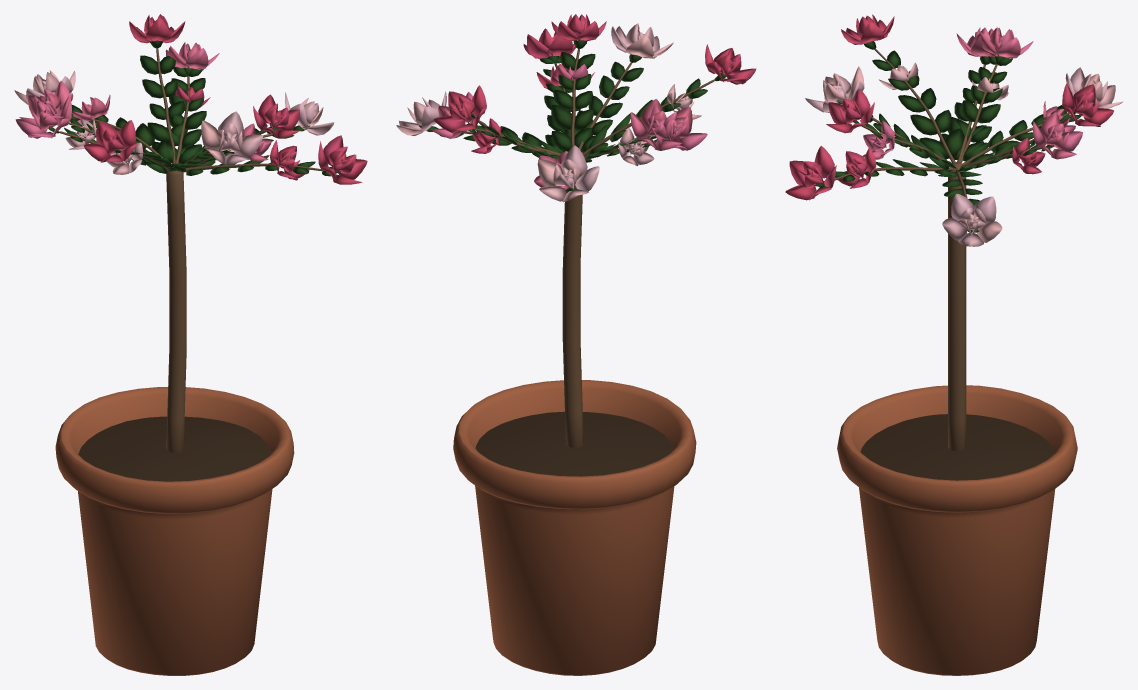
Rendered from pot_rose.glb.
3 views of the same model, side by side, from view 1: azimuth 30°, elevation 25°; view 2: azimuth 150°, elevation 25°; view 3: azimuth 270°, elevation 25° (orthographic).
Parts seen in each view (by area): view 1: Sammel Putz, Sammel Pflanze, Sammel Holz; view 2: Sammel Putz, Sammel Pflanze, Sammel Holz; view 3: Sammel Putz, Sammel Pflanze, Sammel Holz.
Boxes of the visible parts, <box> form: Sammel Putz: <box>55,387,294,675</box>; Sammel Pflanze: <box>14,14,367,184</box>; Sammel Holz: <box>59,48,323,452</box>; Sammel Putz: <box>453,380,696,675</box>; Sammel Pflanze: <box>396,14,756,202</box>; Sammel Holz: <box>463,48,714,447</box>; Sammel Putz: <box>837,385,1077,675</box>; Sammel Pflanze: <box>785,14,1123,246</box>; Sammel Holz: <box>834,48,1071,451</box>.
Bounding box in the file's own units: 0.7017 × 1.27 × 0.6734.
